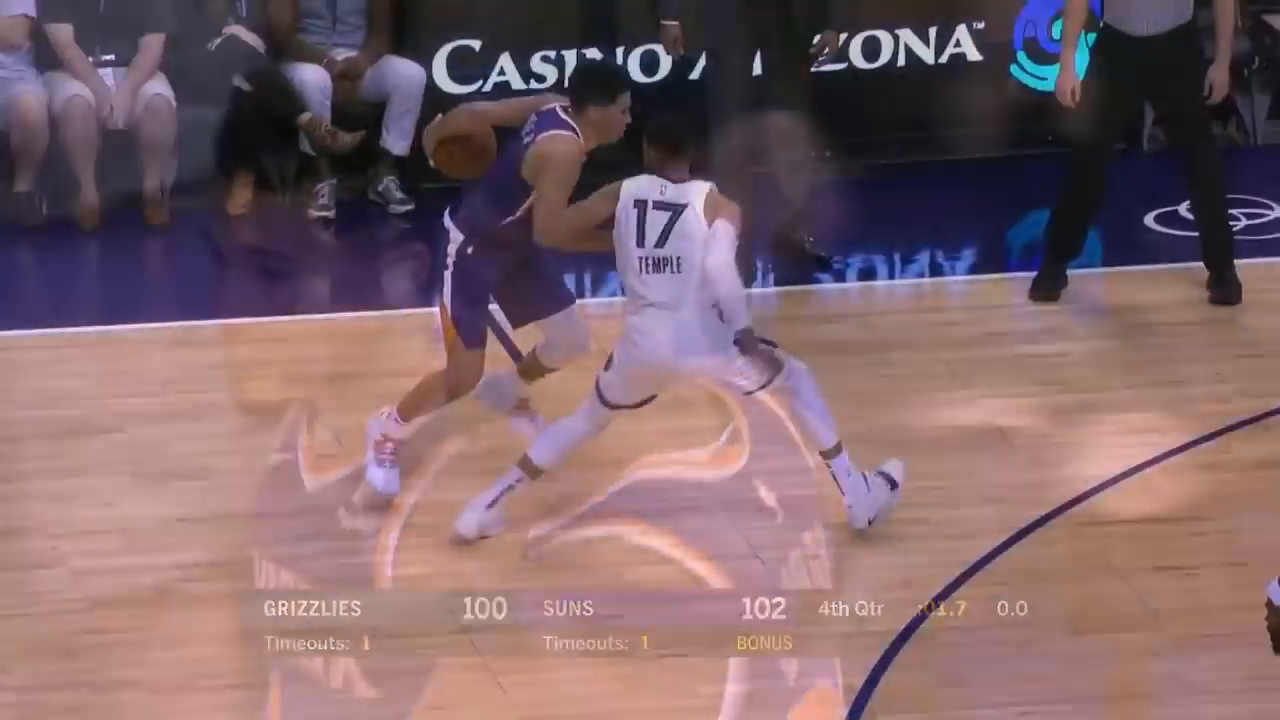ball: (432, 121, 499, 186)
